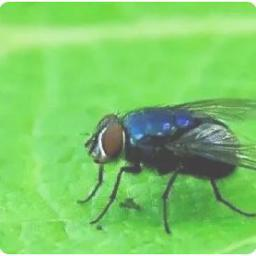liriomyza: (77, 95, 256, 234)
